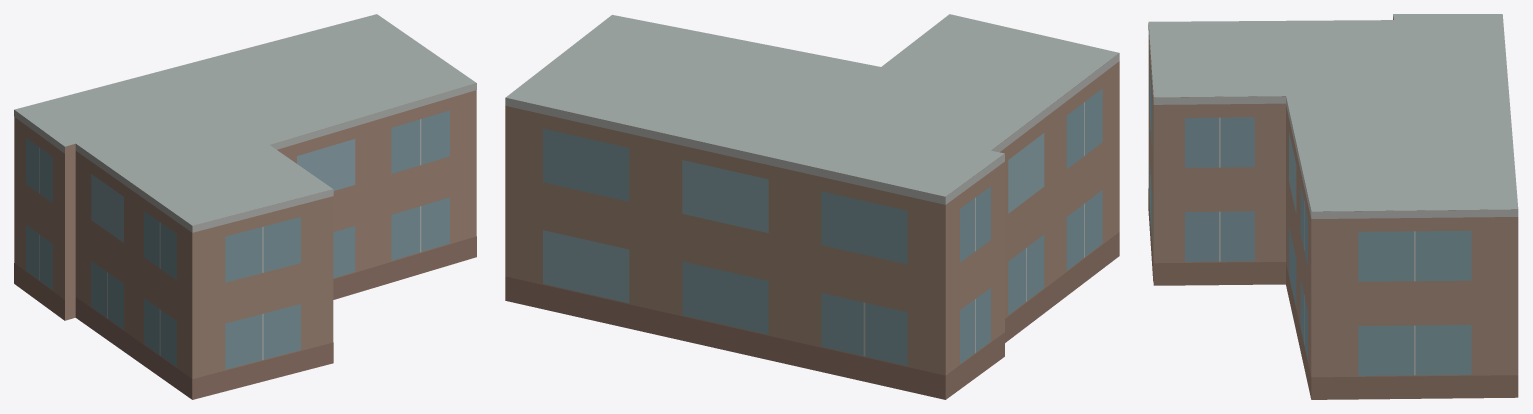
Rendered from survey-upis-32466597.glb.
3 renders of one model, left to right at view 1: azimuth 30°, elevation 25°; view 2: azimuth 150°, elevation 25°; view 3: azimuth 270°, elevation 25°, orthographic. The views are drawn at different scales.
Visible parts, largest first — view 1: survey-upis-32466597.tmp; view 2: survey-upis-32466597.tmp; view 3: survey-upis-32466597.tmp.
Part boxes in pixels (box(x1,y1,x2,y2)): survey-upis-32466597.tmp: box(14, 14, 476, 399); survey-upis-32466597.tmp: box(505, 14, 1119, 399); survey-upis-32466597.tmp: box(1148, 14, 1518, 399).
Bounding box in the file's own units: 13.74 × 6.1 × 10.87.
